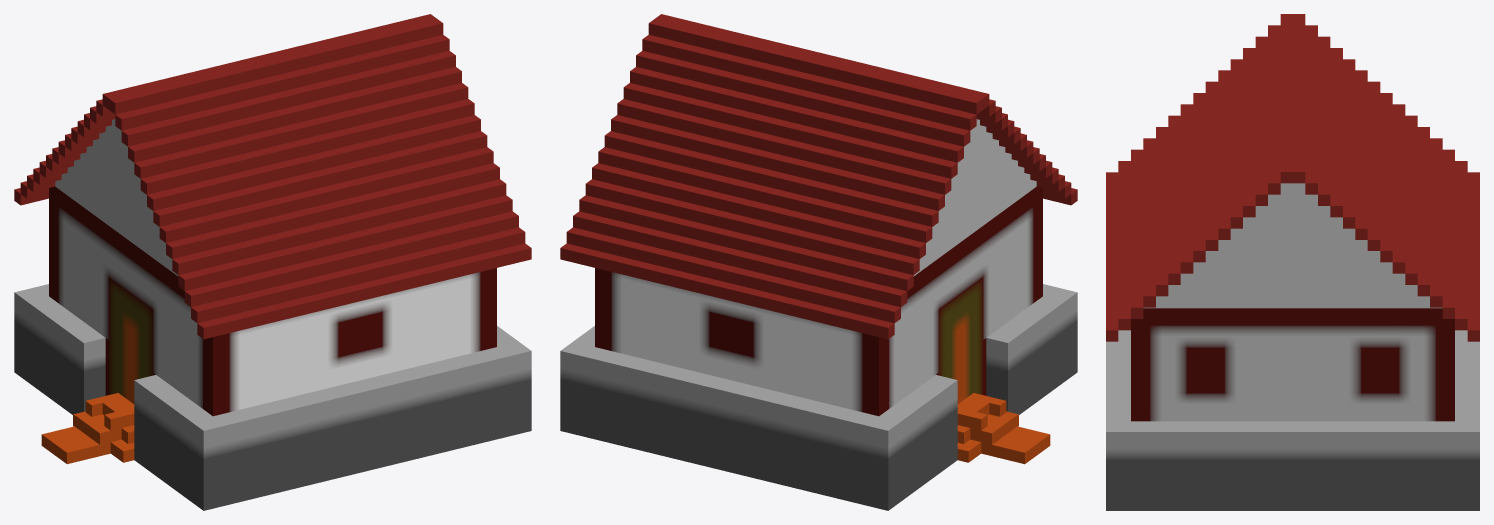
Rendered from House_0.fbx.
3 renders of one model, left to right at view 1: azimuth 30°, elevation 25°; view 2: azimuth 150°, elevation 25°; view 3: azimuth 270°, elevation 25°, orthographic.
Visible parts, largest first — view 1: House_0; view 2: House_0; view 3: House_0.
Boxes of the visible parts, x1=… form: House_0: x1=14, y1=14, x2=531, y2=510; House_0: x1=560, y1=14, x2=1077, y2=510; House_0: x1=1106, y1=14, x2=1479, y2=510.
Bounding box in the file's own units: 35 × 30 × 30.
1 material, 1 textured.
